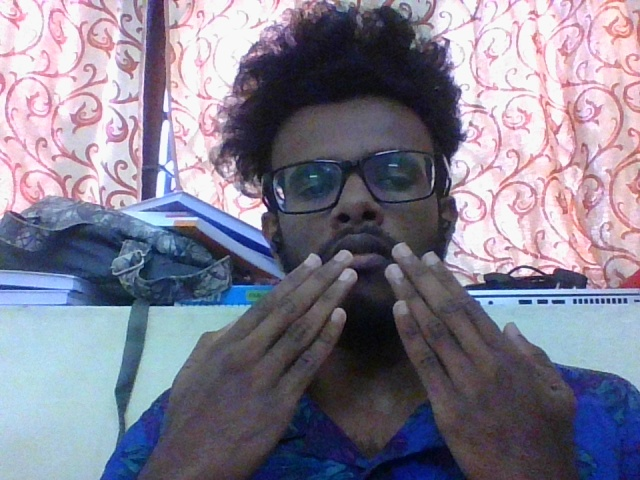thank: (133, 237, 584, 478)
